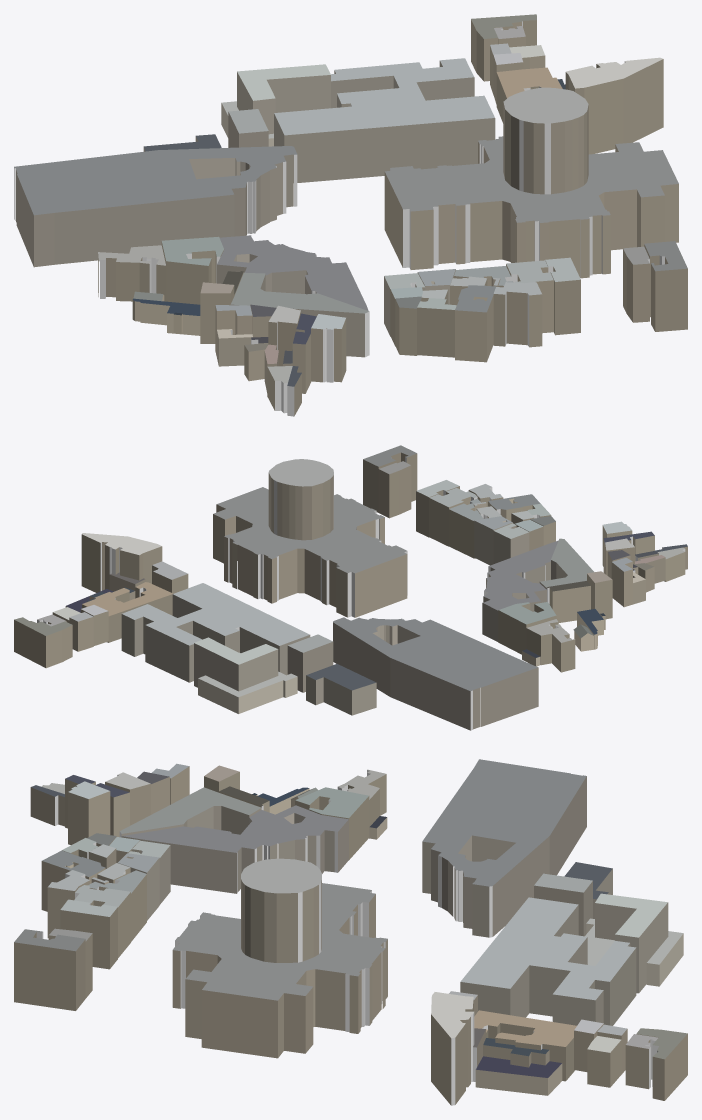
3 renders of one model, top to bottom at view 1: azimuth 30°, elevation 25°; view 2: azimuth 150°, elevation 25°; view 3: azimuth 270°, elevation 25°, orthographic. The views are drawn at different scales.
Visible parts, largest first — view 1: tuile; view 2: tuile; view 3: tuile.
Boxes of the visible parts, left/top/right/bottom form: tuile: left=14, top=14, right=687, bottom=416; tuile: left=14, top=445, right=687, bottom=730; tuile: left=14, top=759, right=687, bottom=1105.
Bounding box in the file's own units: 282 × 61.27 × 272.
